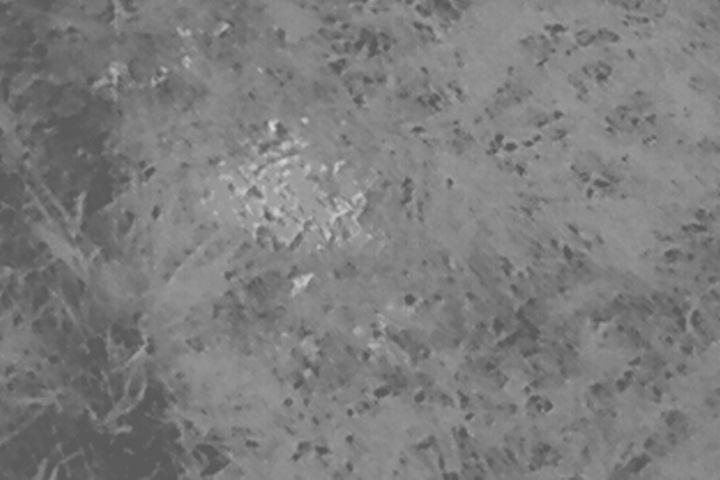landmine: (241, 155, 349, 253)
